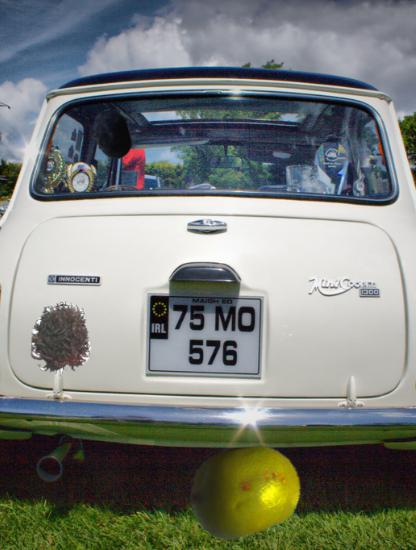Blueberry: (86, 109, 138, 161)
Pomelo: (189, 435, 304, 550)
Rambutan: (22, 298, 102, 378)
